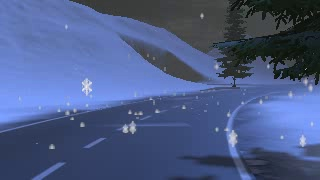Lane: (1, 84, 302, 179)
